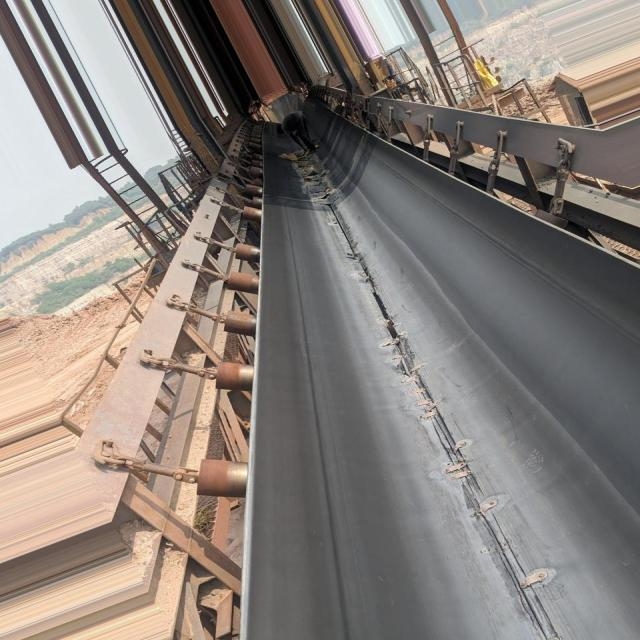Human: (284, 108, 316, 146)
Roller: (201, 121, 265, 492)
Tear: (320, 214, 406, 321)
patch work: (382, 327, 558, 628), (292, 150, 335, 208)
